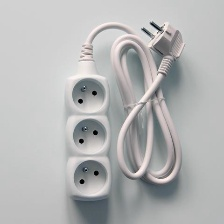three_eye_plug: (62, 72, 113, 205)
